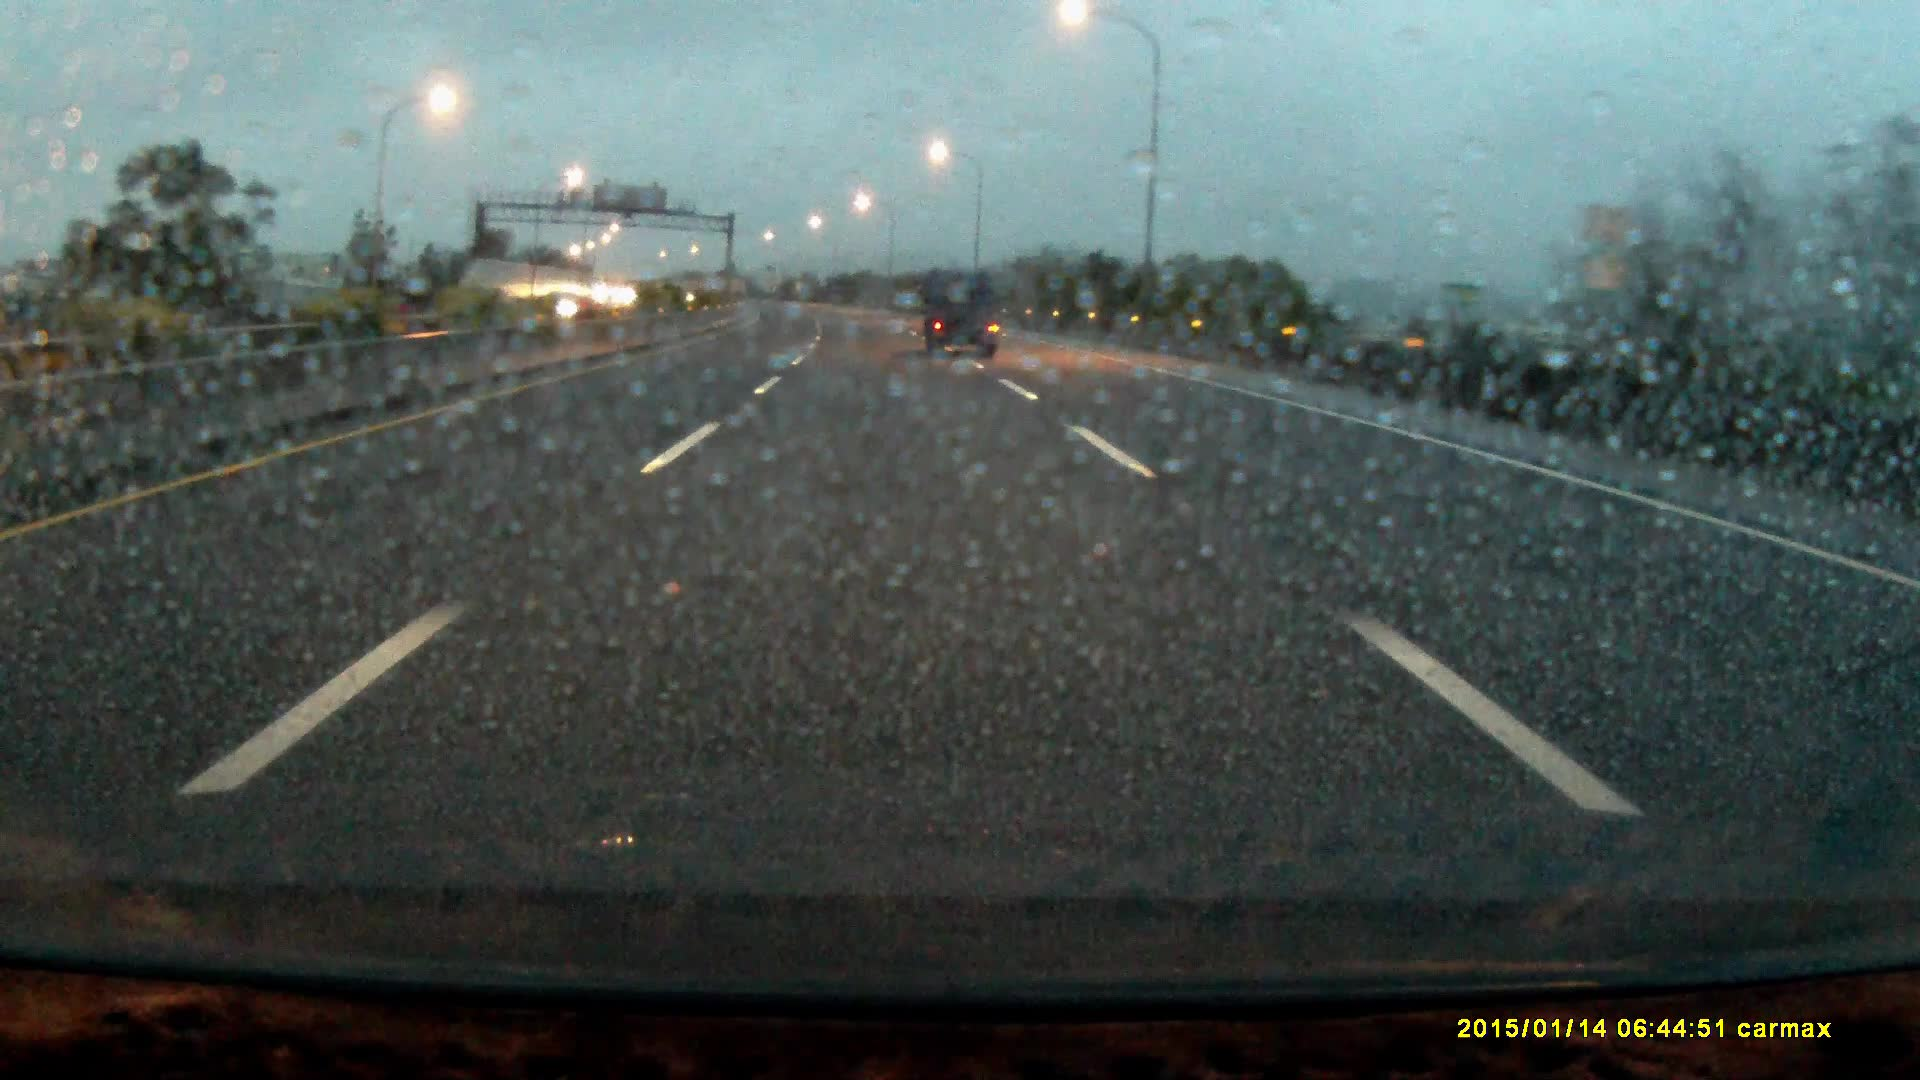vehicle: (922, 272, 1004, 357)
